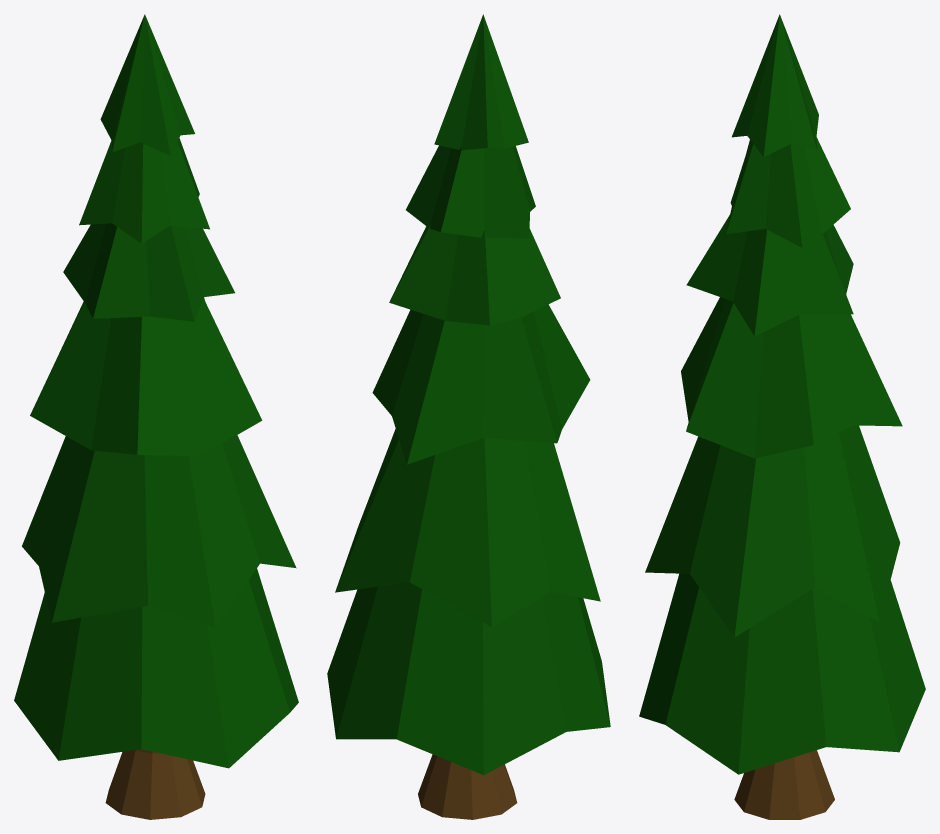
File: sap1.fbx
3 renders of one model, left to right at view 1: azimuth 30°, elevation 25°; view 2: azimuth 150°, elevation 25°; view 3: azimuth 270°, elevation 25°, orthographic.
Visible parts, largest first — view 1: Cylinder; view 2: Cylinder; view 3: Cylinder.
Part boxes in pixels (x1=…): Cylinder: x1=14, y1=14, x2=298, y2=819; Cylinder: x1=327, y1=14, x2=610, y2=819; Cylinder: x1=639, y1=14, x2=925, y2=819.
Bounding box in the file's own units: 386 × 1211 × 404.
